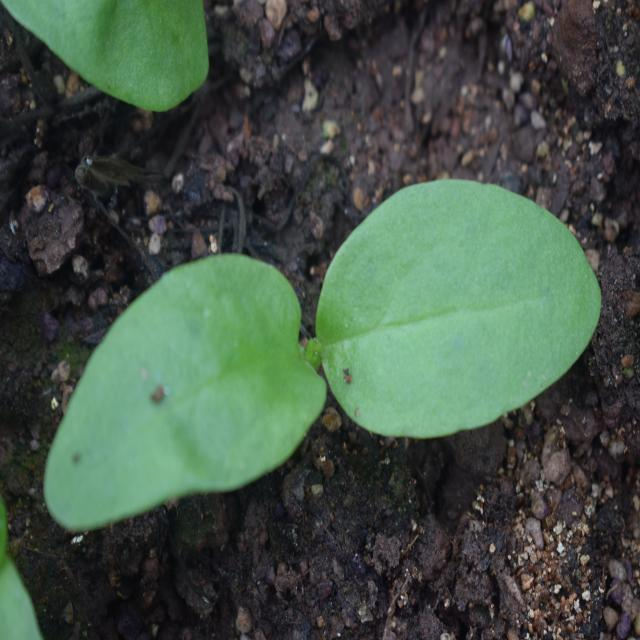Ceylon spinach: (41, 157, 601, 564)
